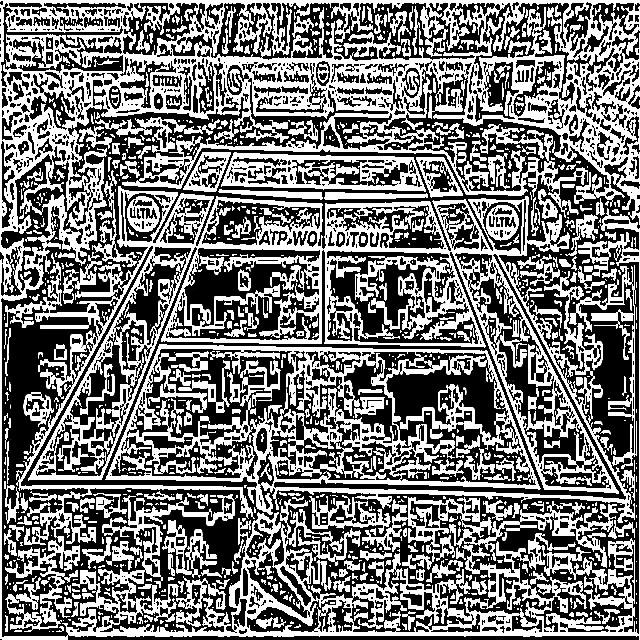left side: (414, 154, 624, 496), (23, 149, 234, 483)
player: (232, 424, 316, 634), (317, 87, 344, 150)
